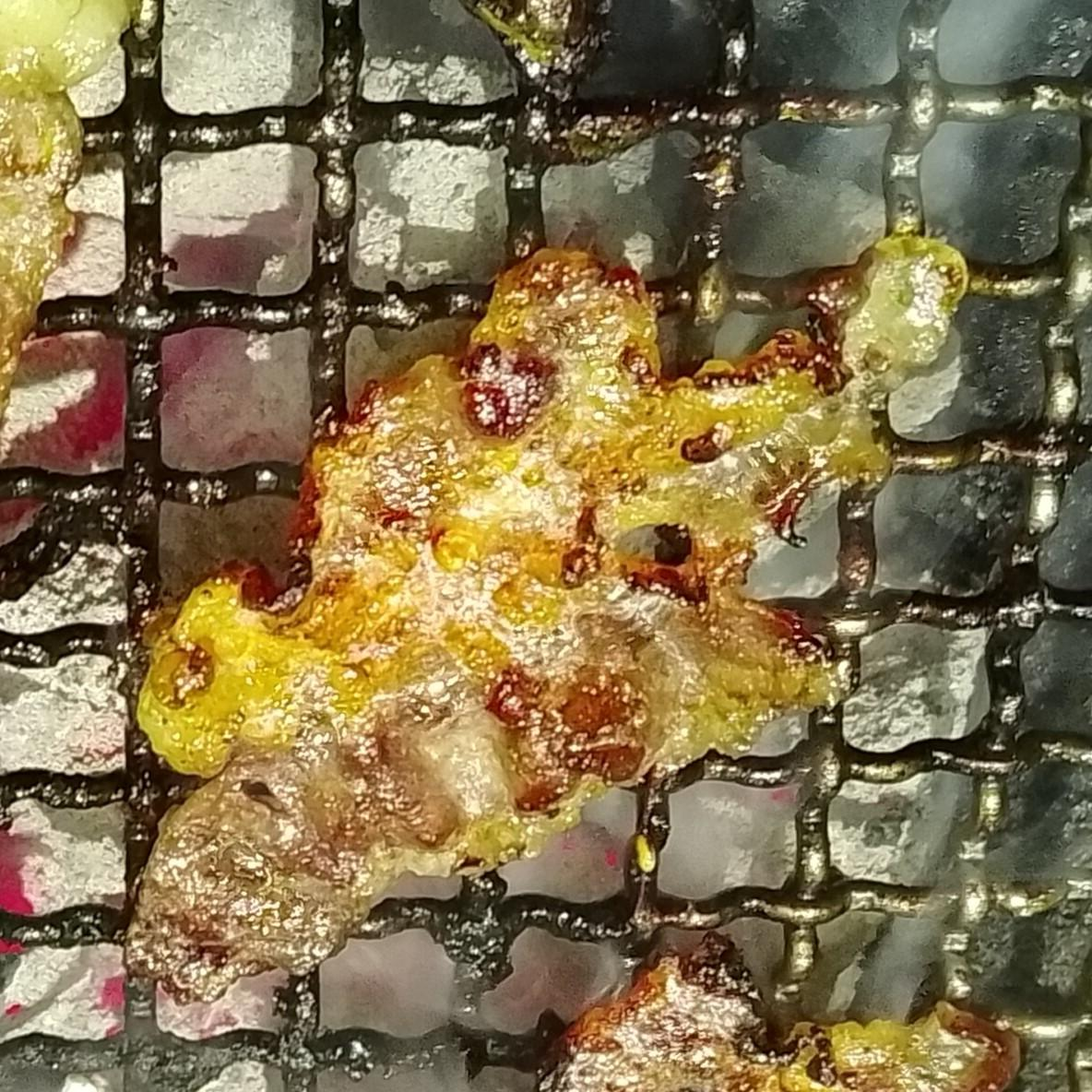Overcooked: (119, 226, 972, 1057), (536, 932, 1026, 1091)
Well-Cooked: (0, 0, 132, 457)
